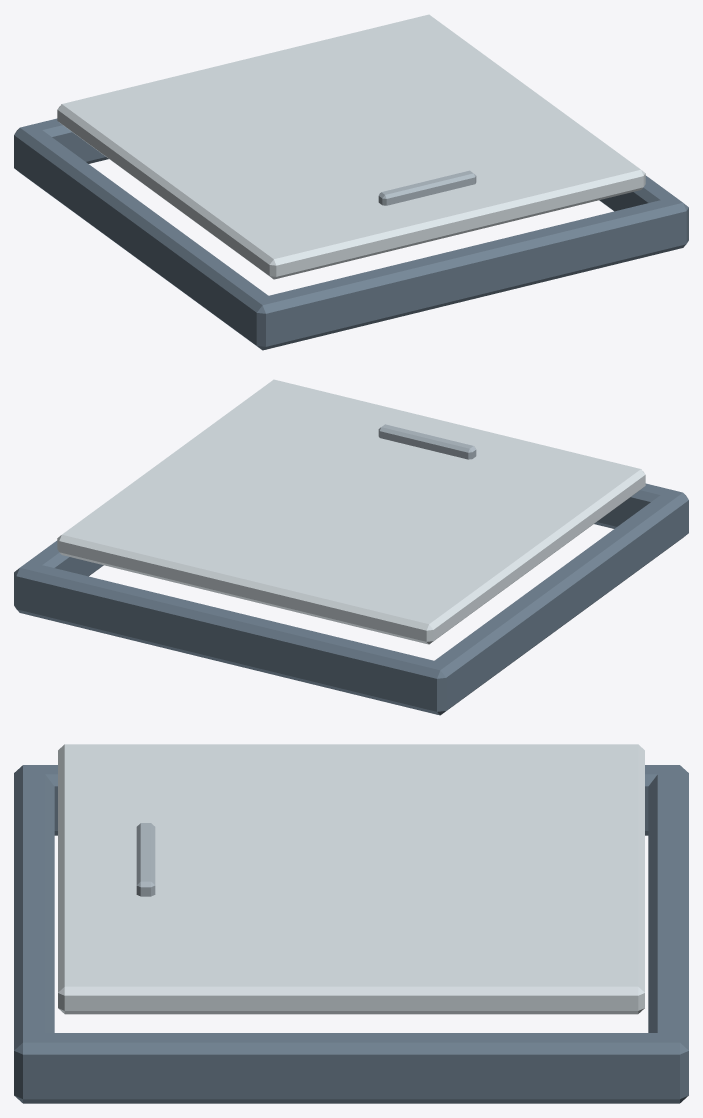
Rendered from architecture_09.glb.
3 renders of one model, top to bottom at view 1: azimuth 30°, elevation 25°; view 2: azimuth 150°, elevation 25°; view 3: azimuth 270°, elevation 25°, orthographic. The views are drawn at different scales.
Visible parts, largest first — view 1: Lid, HatchFrame (×4), Handle; view 2: Lid, HatchFrame (×4), Handle; view 3: Lid, HatchFrame (×4), Handle.
Boxes of the visible parts, <box> form: Lid: <box>57,14,645,279</box>; HatchFrame (×4): <box>14,118,688,350</box>; Handle: <box>378,170,476,205</box>; Lid: <box>57,379,645,644</box>; HatchFrame (×4): <box>14,483,688,715</box>; Handle: <box>378,424,476,459</box>; Lid: <box>58,744,644,1014</box>; HatchFrame (×4): <box>14,765,688,1103</box>; Handle: <box>136,823,155,896</box>.
Bounding box in the file's own units: 1 × 0.184 × 1.
